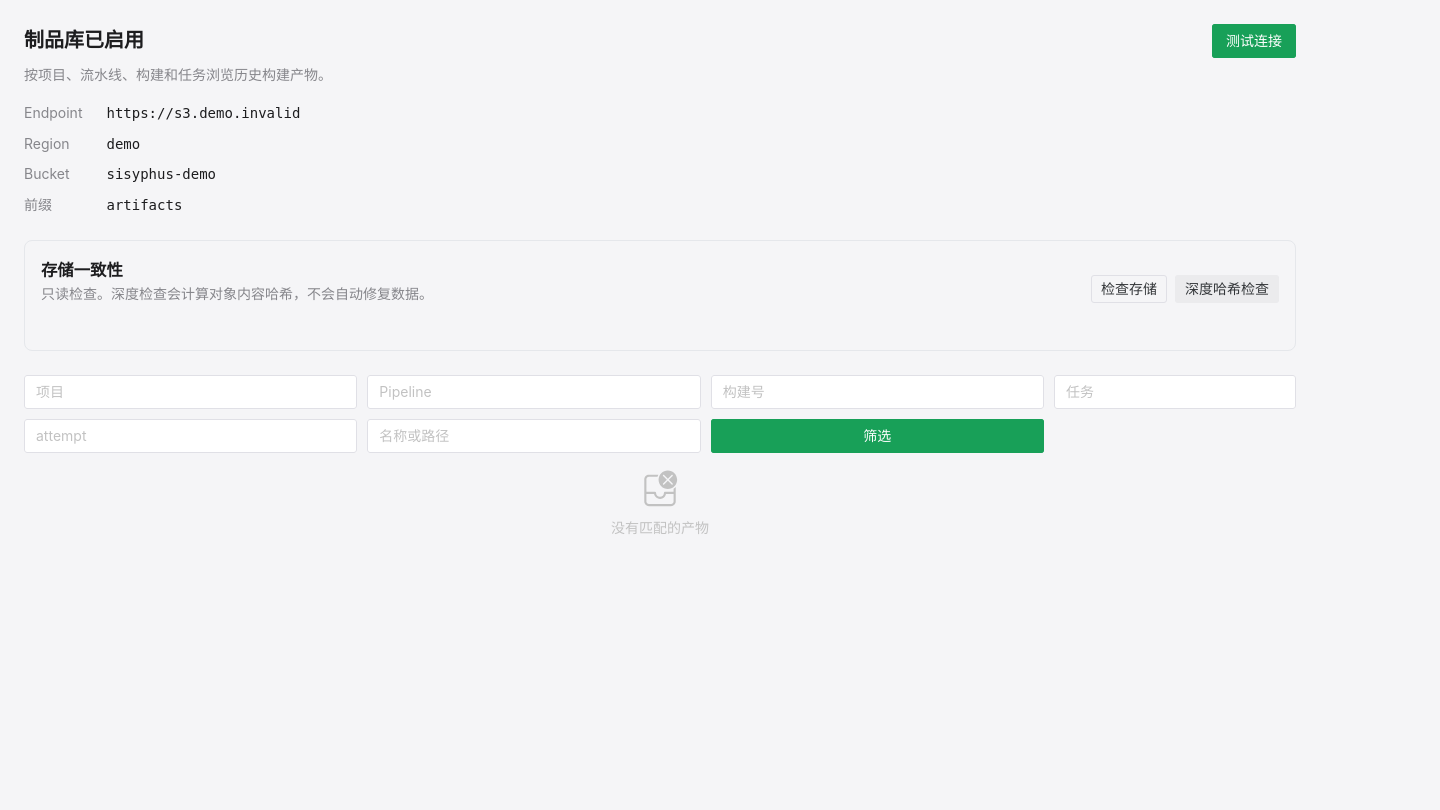
ArtifactRepositoryView 存储一致性检查（票 #143） › 普通检查展示无 finding、检查时间、后端和零积压
Expected: the element with test id "storage-consistency" is shown, [24,240,1296,351]
What coordinates should you click on to do the following:
click the button "检查存储"
I would click on:
 (1129, 289)
Its box is [1091,275,1167,303].
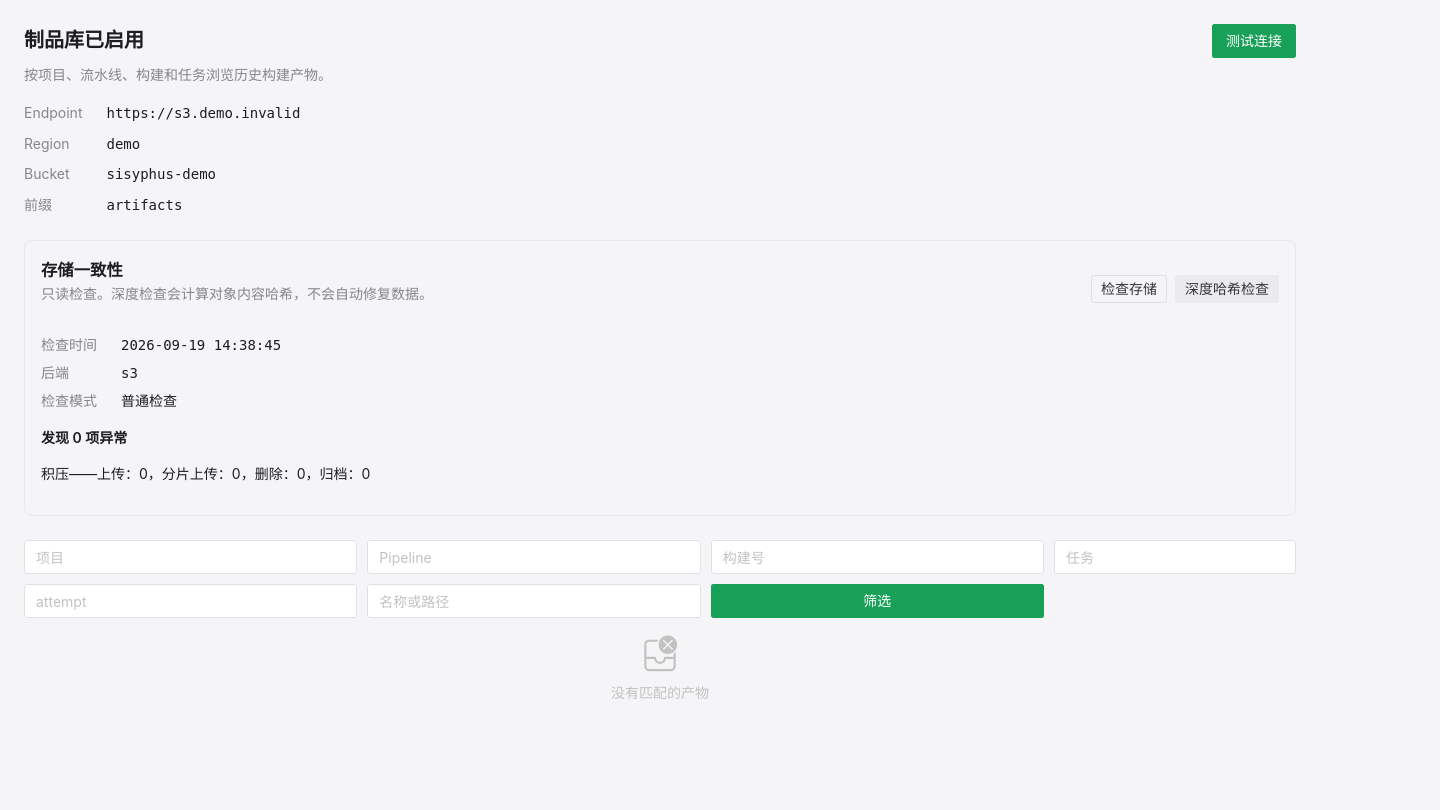
Expected: the element with test id "consistency-report" is shown, [41,334,1279,413]
Expected: the element with test id "storage-consistency" shows "检查时间", [41,336,97,352]
Expected: the element with test id "storage-consistency" shows "后端", [41,364,69,381]
